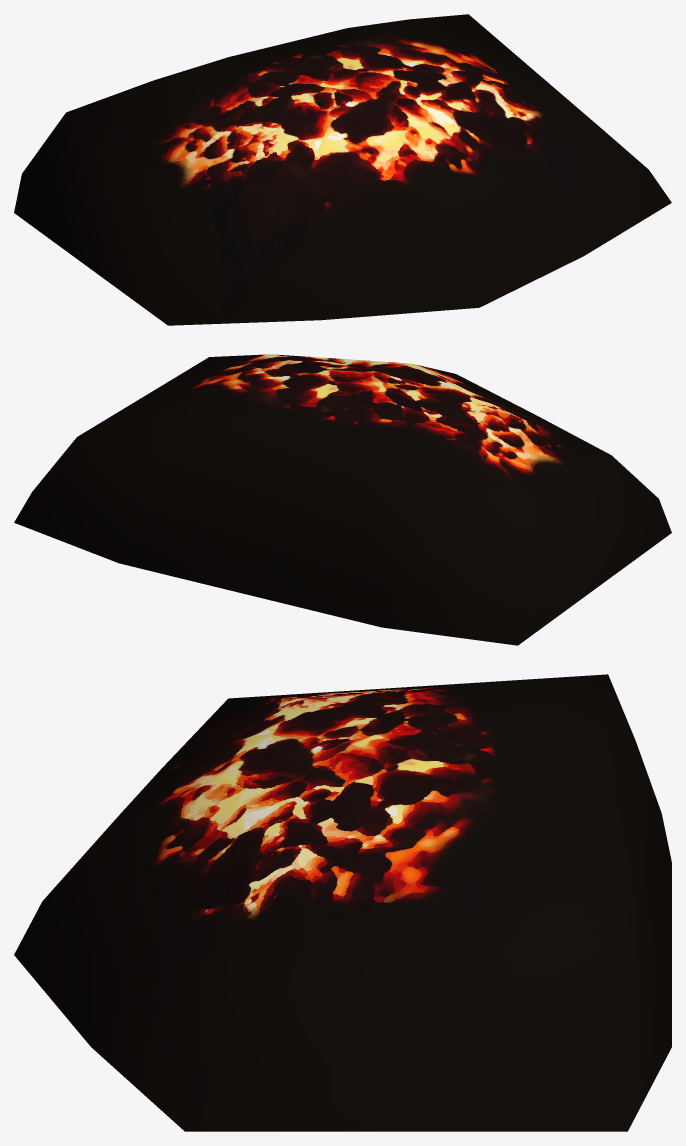
File: Embers.fbx
3 views of the same model, one above another, from view 1: azimuth 30°, elevation 25°; view 2: azimuth 150°, elevation 25°; view 3: azimuth 270°, elevation 25° (orthographic). The views are drawn at different scales.
Visible parts, largest first — view 1: Cube; view 2: Cube; view 3: Cube.
Part boxes in pixels (x1,y1,x2,y2): Cube: (14,14,671,325); Cube: (14,354,671,645); Cube: (14,674,671,1131).
Bounding box in the file's own units: 126 × 32.86 × 98.9.
